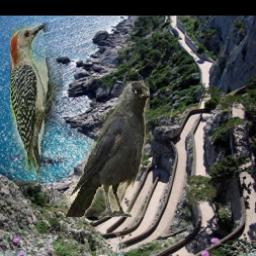Crow: (65, 81, 151, 217)
Woodpecker: (10, 24, 63, 187)
